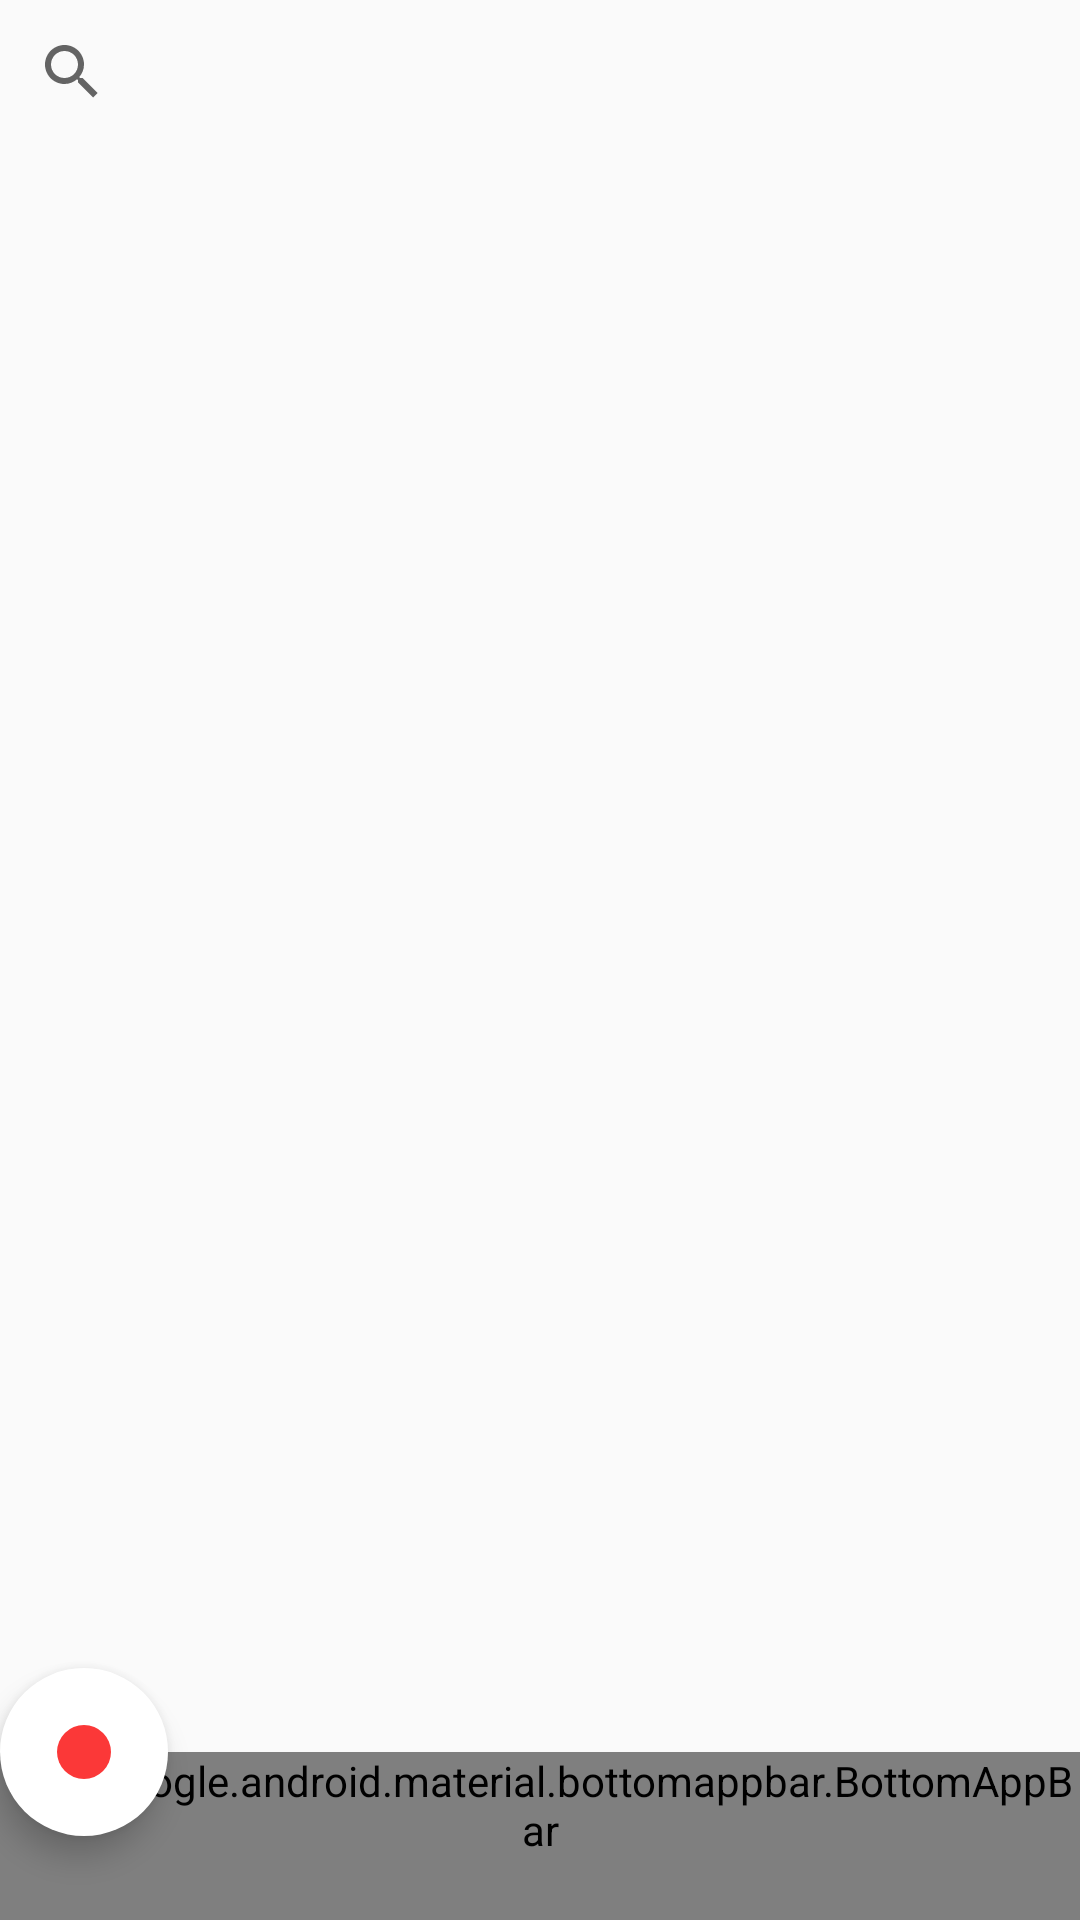

Icon click points for this 1080px×1920px phone screenshot, format (x,y):
record: (84,1752)
